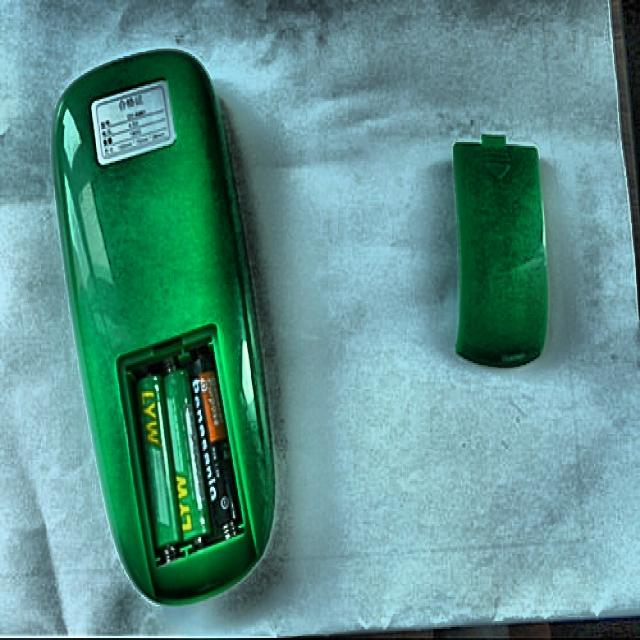Non-Valuable Waste - Batteries: (192, 351, 241, 538), (164, 367, 210, 540), (136, 375, 181, 548)
